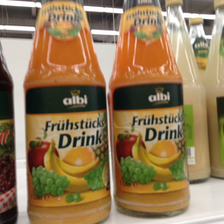juice: (23, 1, 113, 223), (108, 1, 194, 218)
